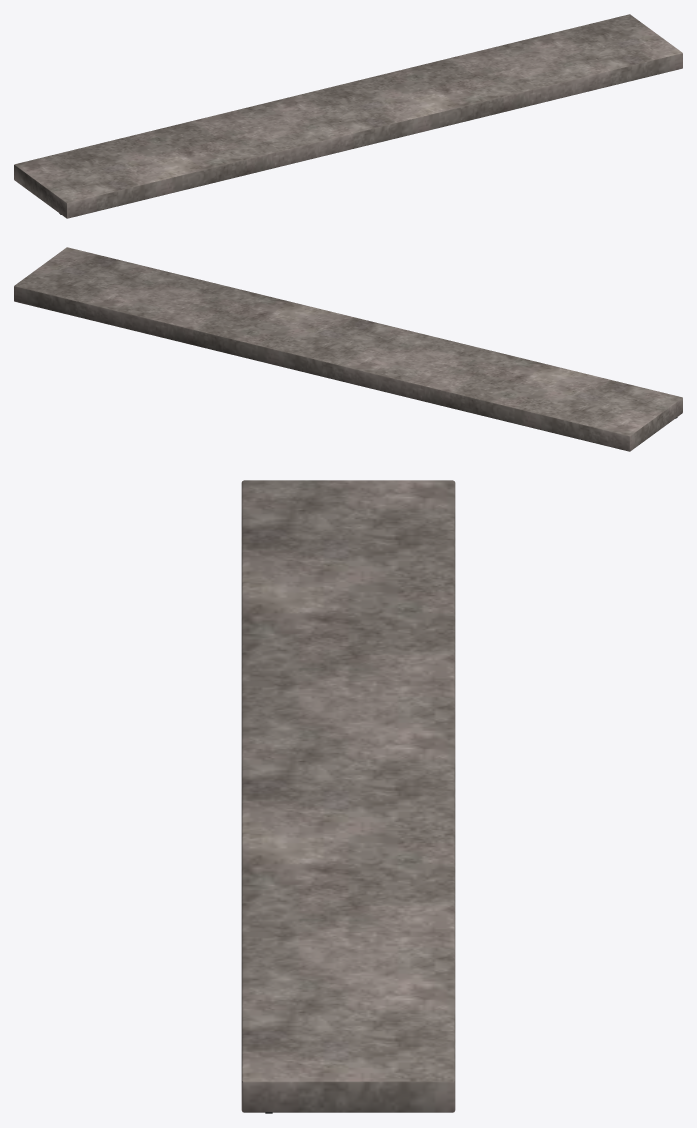
File: ESQ-PCH-001_lod1.glb
The picture shows the model from 3 angles, top to bottom: view 1: azimuth 30°, elevation 25°; view 2: azimuth 150°, elevation 25°; view 3: azimuth 270°, elevation 25°; orthographic projection. The views are drawn at different scales.
Parts seen in each view (by area): view 1: ESQ-PCH-001_pedra; view 2: ESQ-PCH-001_pedra; view 3: ESQ-PCH-001_pedra.
Part boxes in pixels (left/top/right/bottom): ESQ-PCH-001_pedra: left=14, top=14, right=682, bottom=218; ESQ-PCH-001_pedra: left=14, top=247, right=682, bottom=451; ESQ-PCH-001_pedra: left=241, top=480, right=455, bottom=1112.
Bounding box in the file's own units: 1.2 × 0.03 × 0.18.
2 materials, 1 textured.
